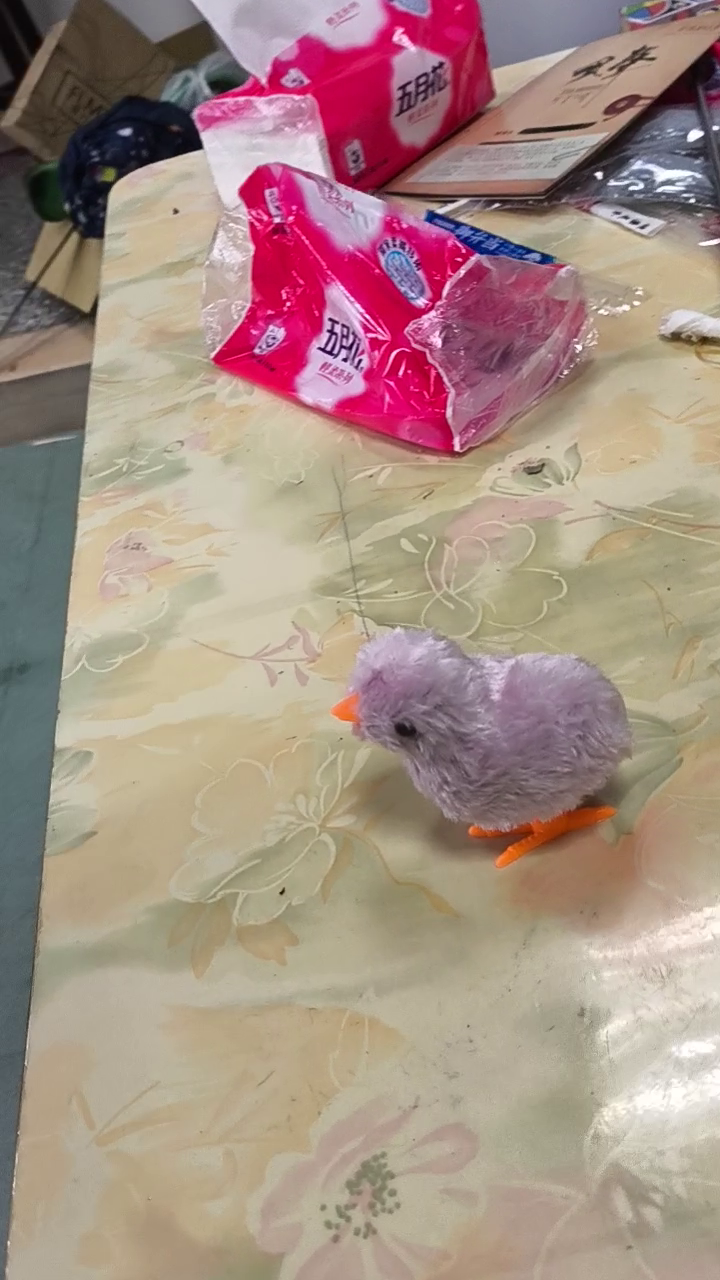pink chicken: (331, 622, 638, 871)
